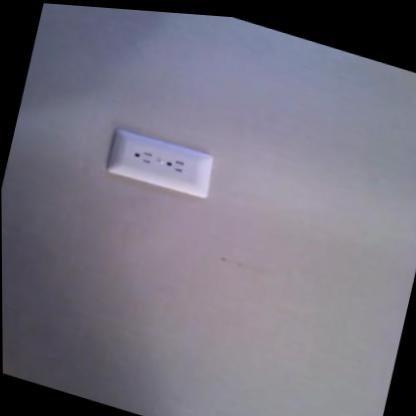OUTLET: (106, 127, 216, 201)
